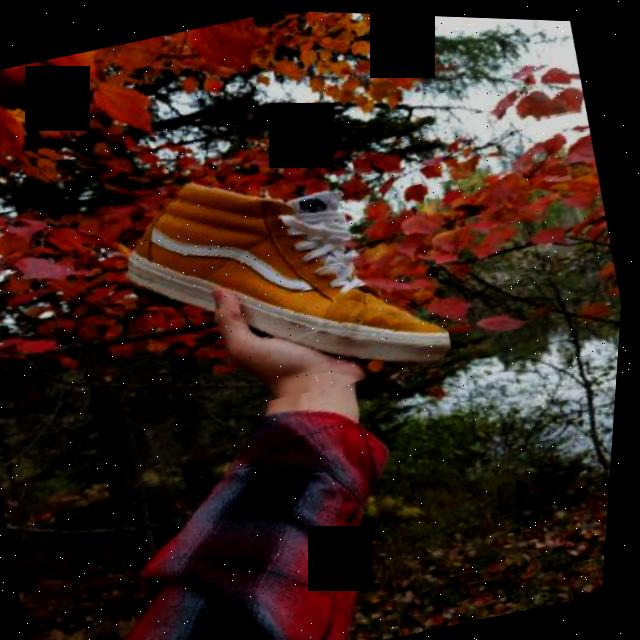shoe: (95, 119, 470, 434)
